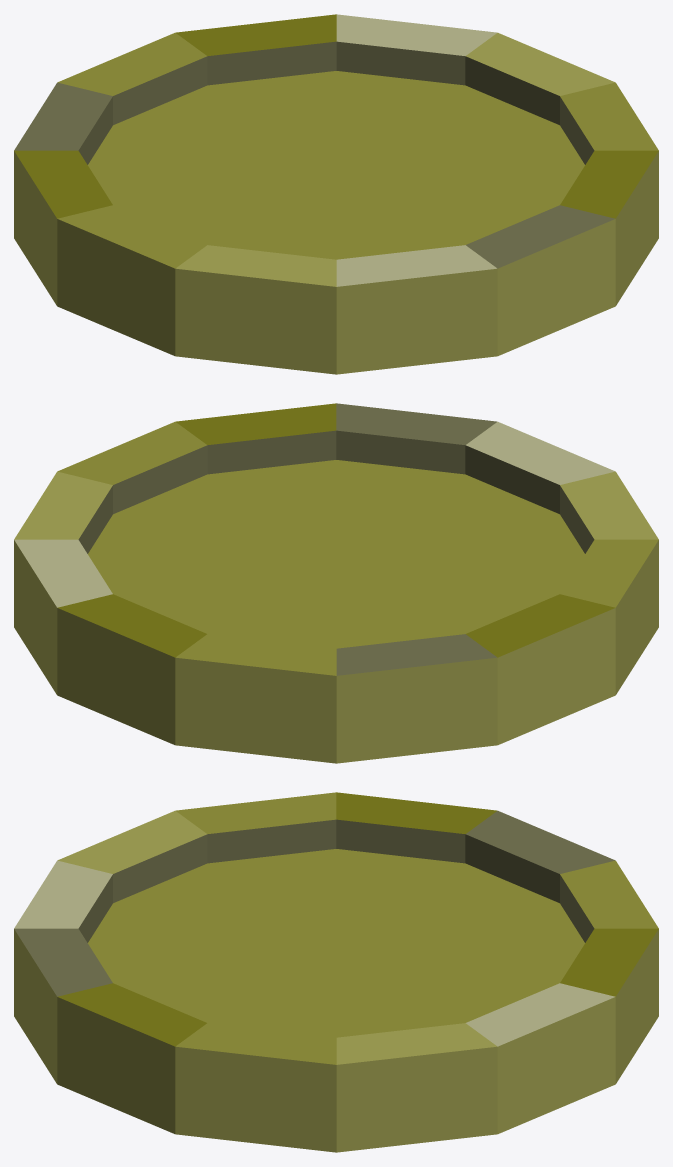
Rendered from Coin.fbx.
3 renders of one model, top to bottom at view 1: azimuth 30°, elevation 25°; view 2: azimuth 150°, elevation 25°; view 3: azimuth 270°, elevation 25°, orthographic.
Visible parts, largest first — view 1: pCylinder1; view 2: pCylinder1; view 3: pCylinder1.
Part boxes in pixels (bbox=[...]): pCylinder1: bbox=[14, 14, 658, 374]; pCylinder1: bbox=[14, 403, 658, 763]; pCylinder1: bbox=[14, 792, 658, 1152].
Size of the model in its own units: 20 by 3 by 20.
